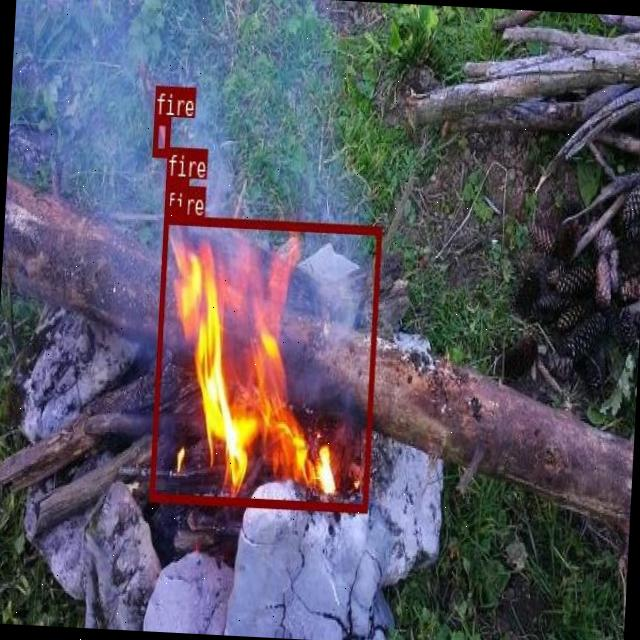fire: (149, 214, 381, 511), (164, 177, 188, 214), (152, 115, 170, 156)
